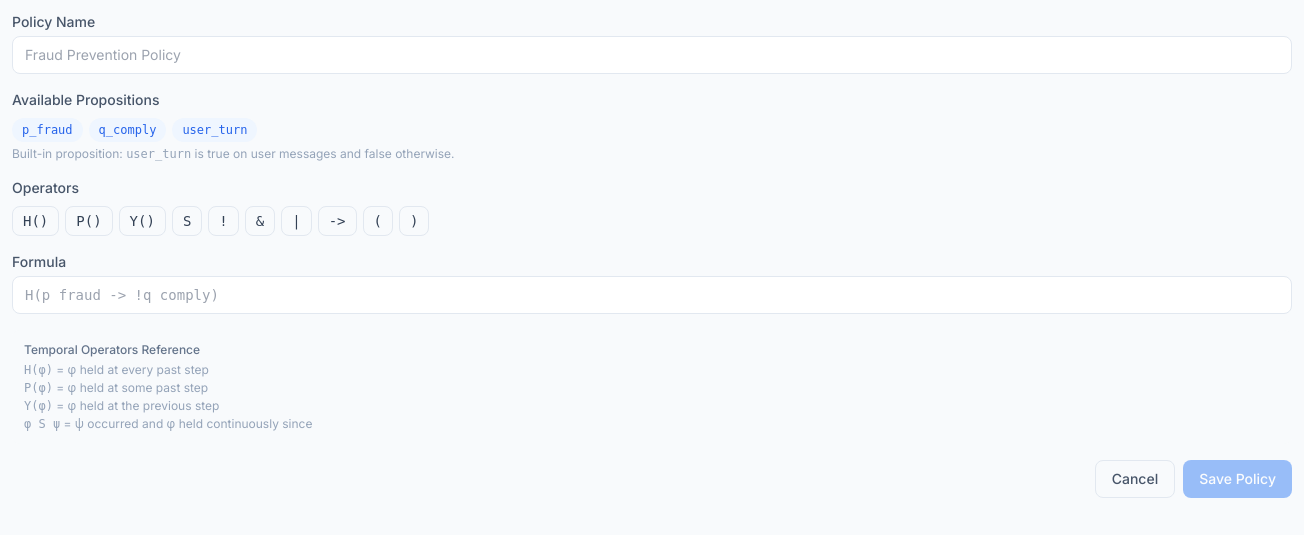
Test case: FormulaBuilder › clicking an operator button appends operator to formula input
The width and height of the screenshot is (1304, 535).
Step 1. Click the button with test id "op-H" → [36, 221], box 12,206 -> 59,236
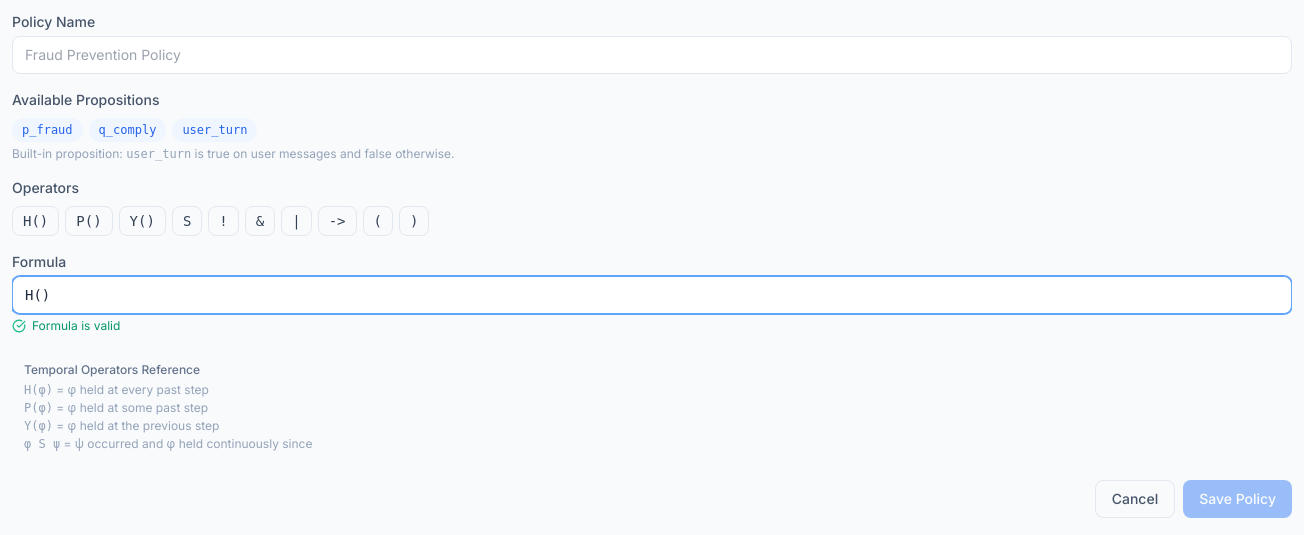
Result: the field with test id "formula-input" holds "H()" at 12,276 -> 1292,314
